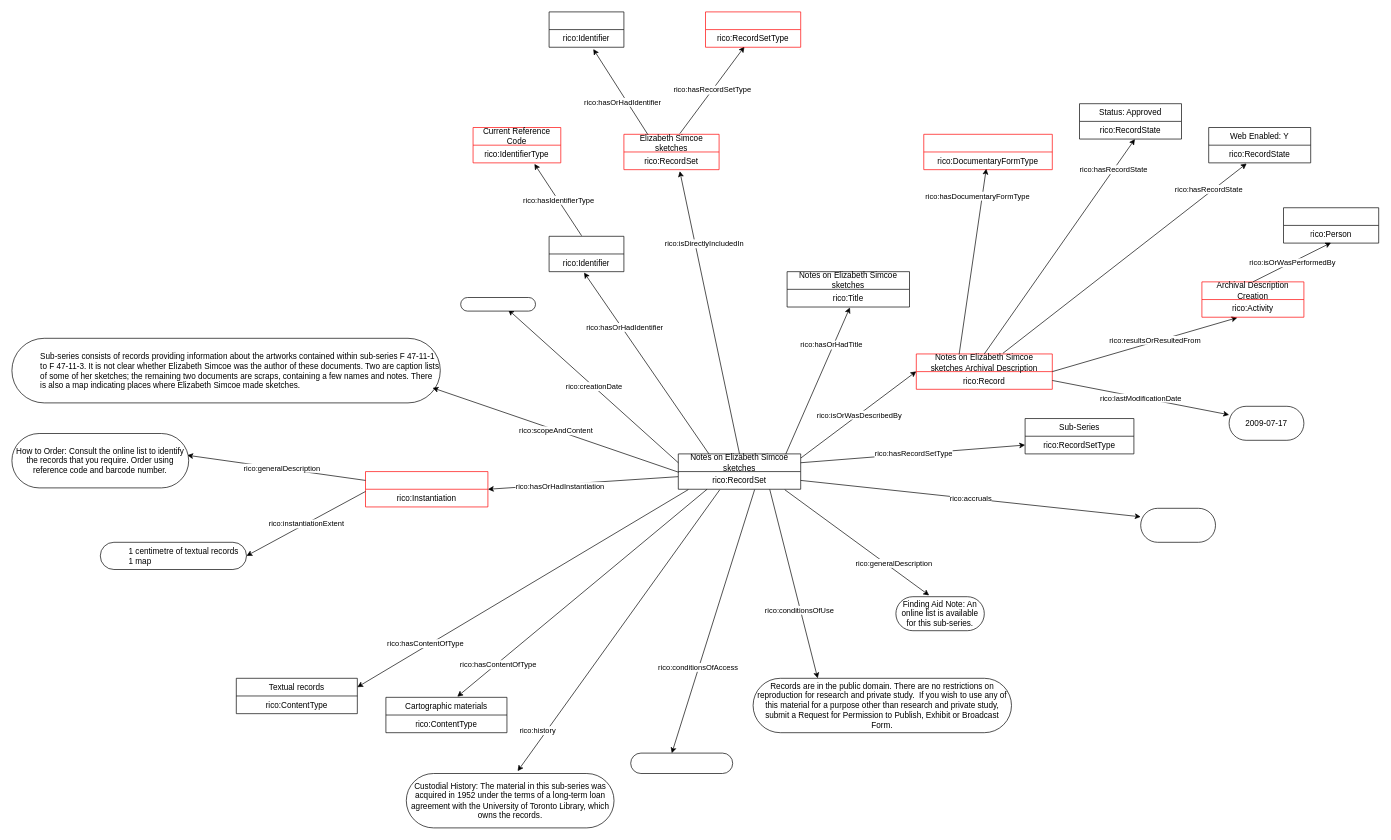
Image size: 1391x840. Some labels were removed from this diagram. The shapes that lost their labels are listed below. From the top down, each one's box as (x1, y1, x2, y2) in pixels, then its label:
(548, 11, 624, 47): F 47-11
(705, 11, 801, 47): Series
(923, 134, 1052, 170): Archival Description
(1283, 207, 1379, 243): Walz
(548, 236, 624, 272): F 47-11-4
(460, 297, 536, 311): [ca. 1790-184--]
(365, 471, 488, 507): Notes on Elizabeth Simcoe sketches-i1
(1140, 508, 1216, 542): No further accruals are expected.
(630, 752, 733, 774): No restrictions on access.
